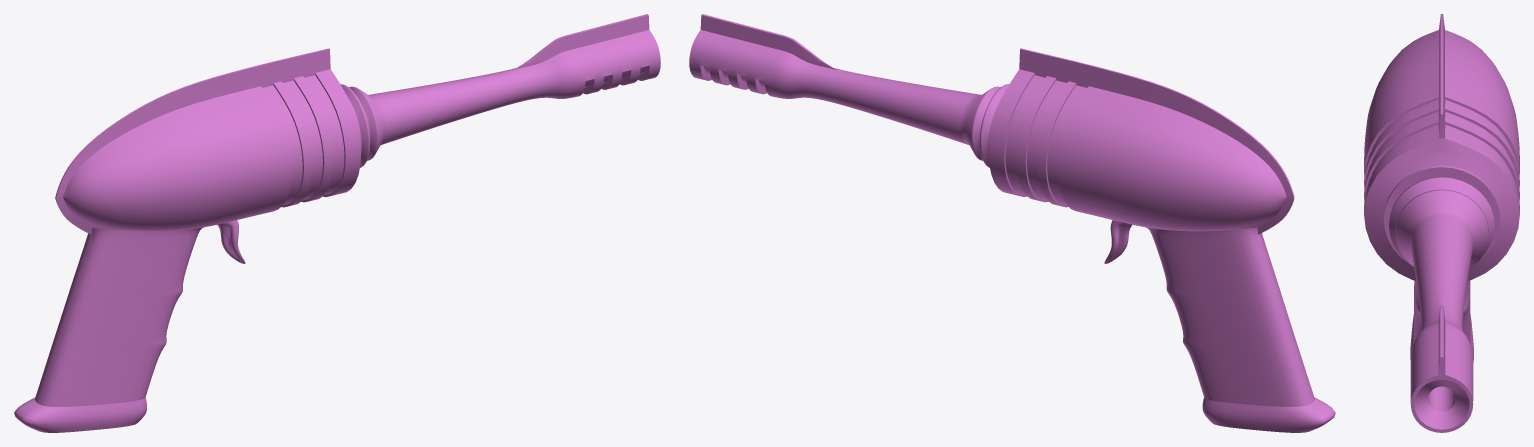
The model's file is Nurse_gun (1).fbx.
3 renders of one model, left to right at view 1: azimuth 30°, elevation 25°; view 2: azimuth 150°, elevation 25°; view 3: azimuth 270°, elevation 25°, orthographic. The views are drawn at different scales.
Parts seen in each view (by area): view 1: Raygun; view 2: Raygun; view 3: Raygun.
Boxes of the visible parts, x1=… form: Raygun: x1=14, y1=14, x2=660, y2=432; Raygun: x1=689, y1=14, x2=1335, y2=432; Raygun: x1=1364, y1=14, x2=1519, y2=432.
Bounding box in the file's own units: 574 × 279 × 101.
